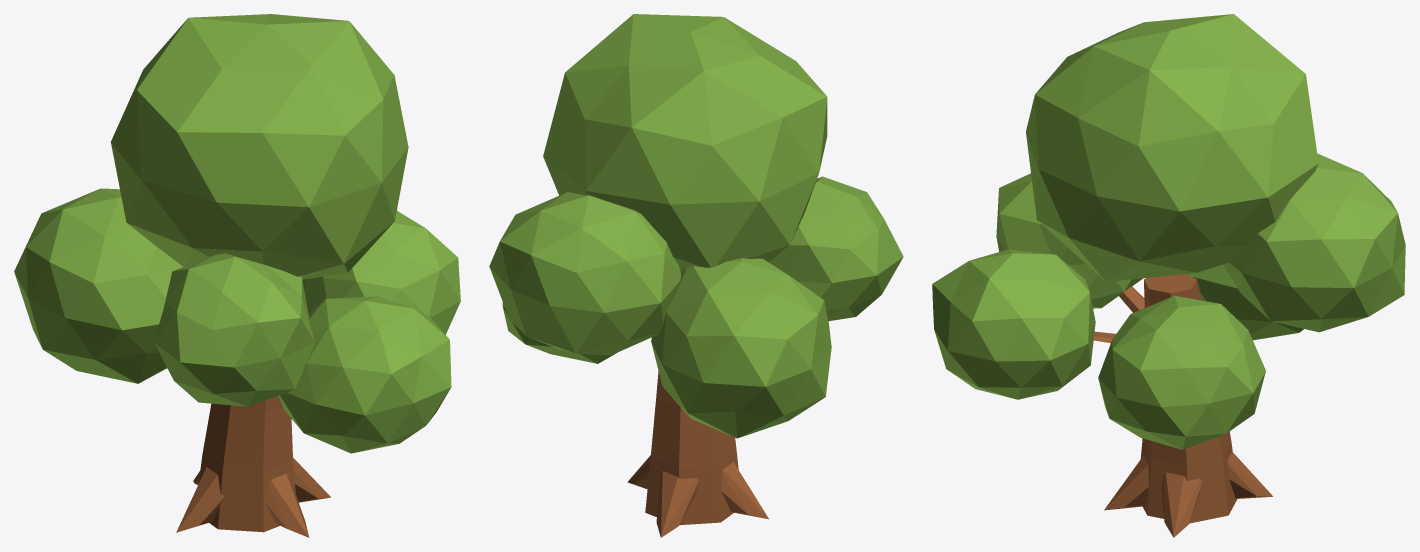
Rendered from tree_c.glb.
3 views of the same model, side by side, from view 1: azimuth 30°, elevation 25°; view 2: azimuth 150°, elevation 25°; view 3: azimuth 270°, elevation 25° (orthographic). The views are drawn at different scales.
Parts seen in each view (by area): view 1: tree_c_laub, tree_c_rinde; view 2: tree_c_laub, tree_c_rinde; view 3: tree_c_laub, tree_c_rinde.
Part boxes in pixels (x1=…): tree_c_laub: x1=14, y1=14, x2=460, y2=453; tree_c_rinde: x1=176, y1=396, x2=330, y2=537; tree_c_laub: x1=489, y1=14, x2=903, y2=438; tree_c_rinde: x1=627, y1=371, x2=768, y2=537; tree_c_laub: x1=932, y1=14, x2=1405, y2=449; tree_c_rinde: x1=1093, y1=274, x2=1272, y2=537.
Size of the model in its own units: 3.36 by 4.25 by 3.83.
